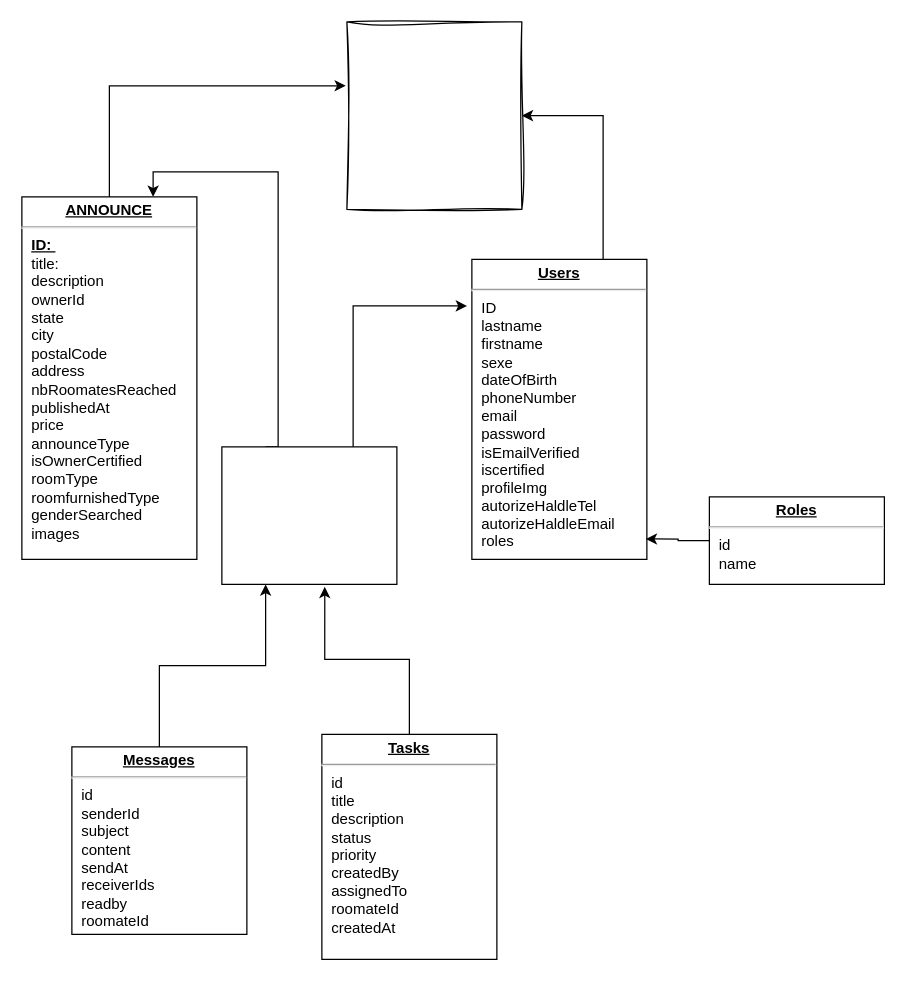
The diagram is 906 pixels wide and 981 high, and some of its shapes have lost their labels. Each missing label, with the centre of its shape:
Candidacies id announceId ownerId UserId Status: the point at 434,115
roomates id managerId announceIds userIds: the point at 309,515
